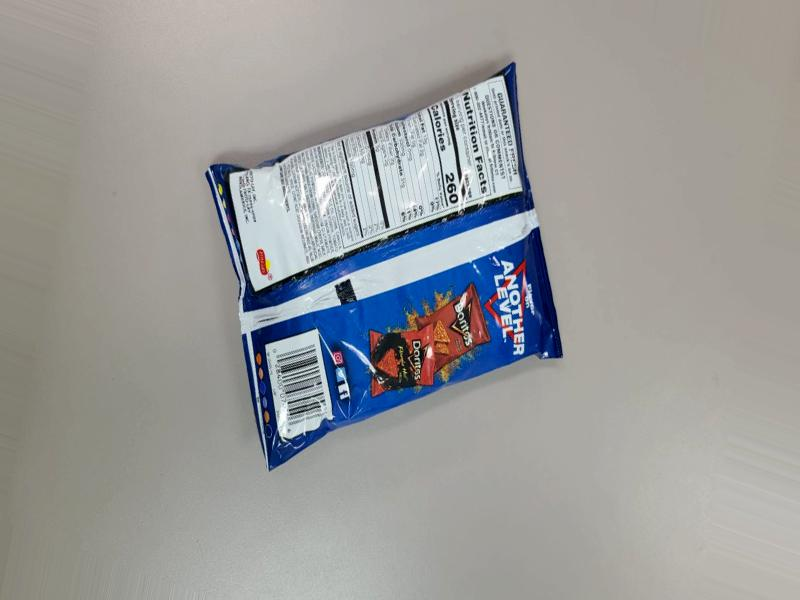doritos: (199, 61, 569, 452)
